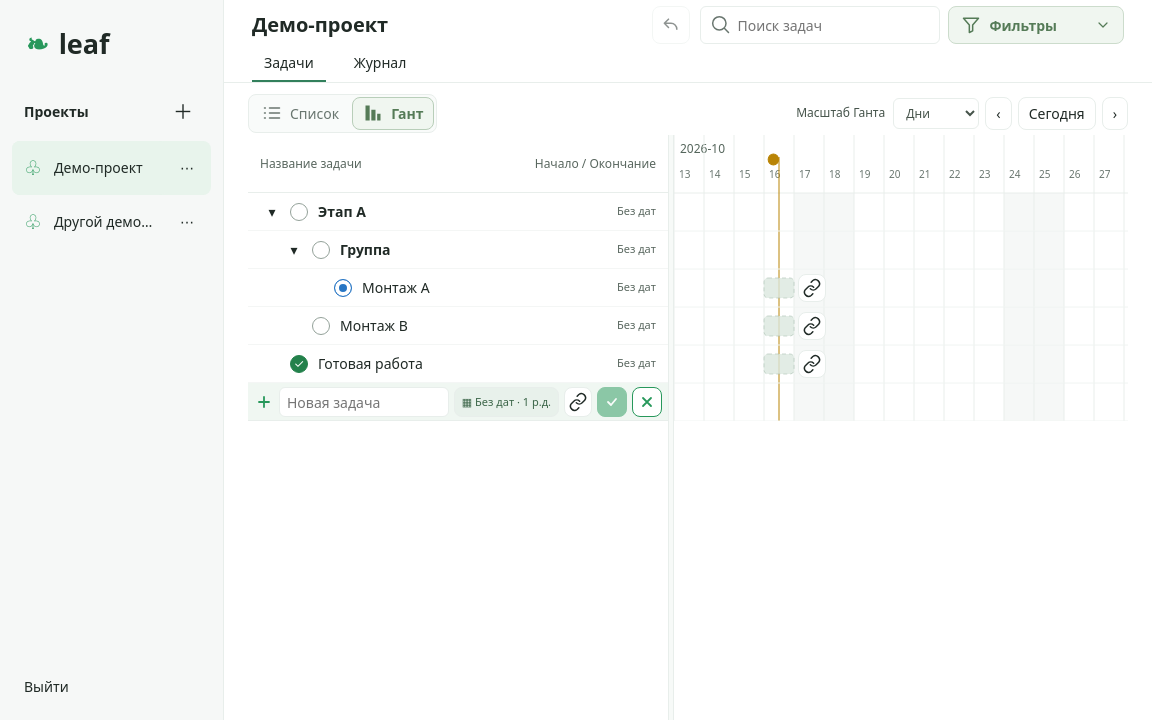
Scenario: reveals matches in collapsed branches and shares literal rows with Gantt without requests
The image size is (1164, 720).
Expected: the list item with aria-label "Монтаж A," is shown, 248,269 -> 668,307
Click the button named "Свернуть Этап A" at x=272, y=212, box 264,202 -> 280,222
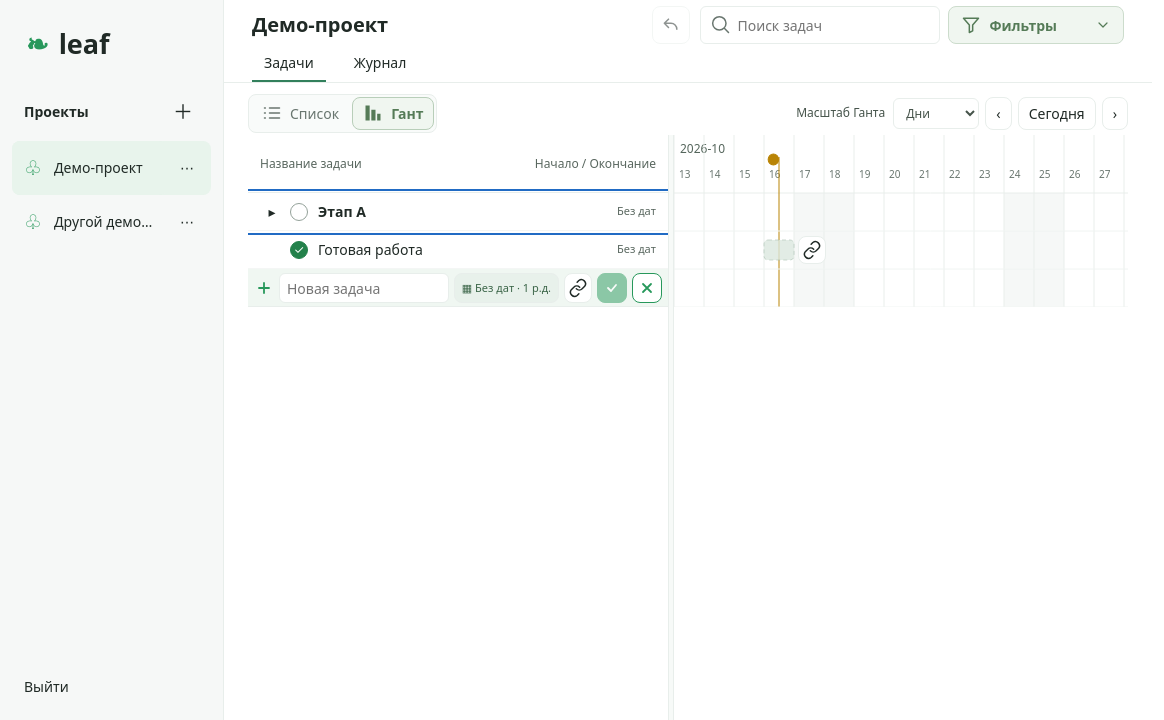
Type " МОНТАЖ " into the search field labelled "Поиск задач" at x=820, y=25, box 700,6 -> 940,44
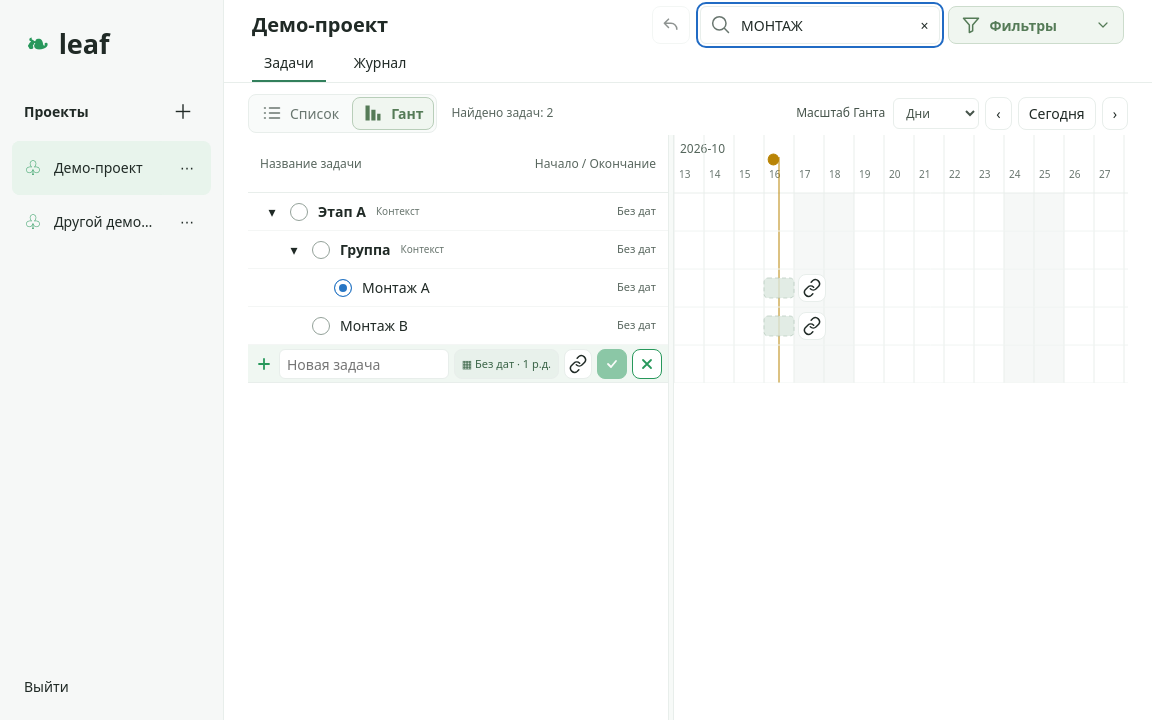
Click the button "Фильтры" at x=1036, y=25, box 948,6 -> 1124,44
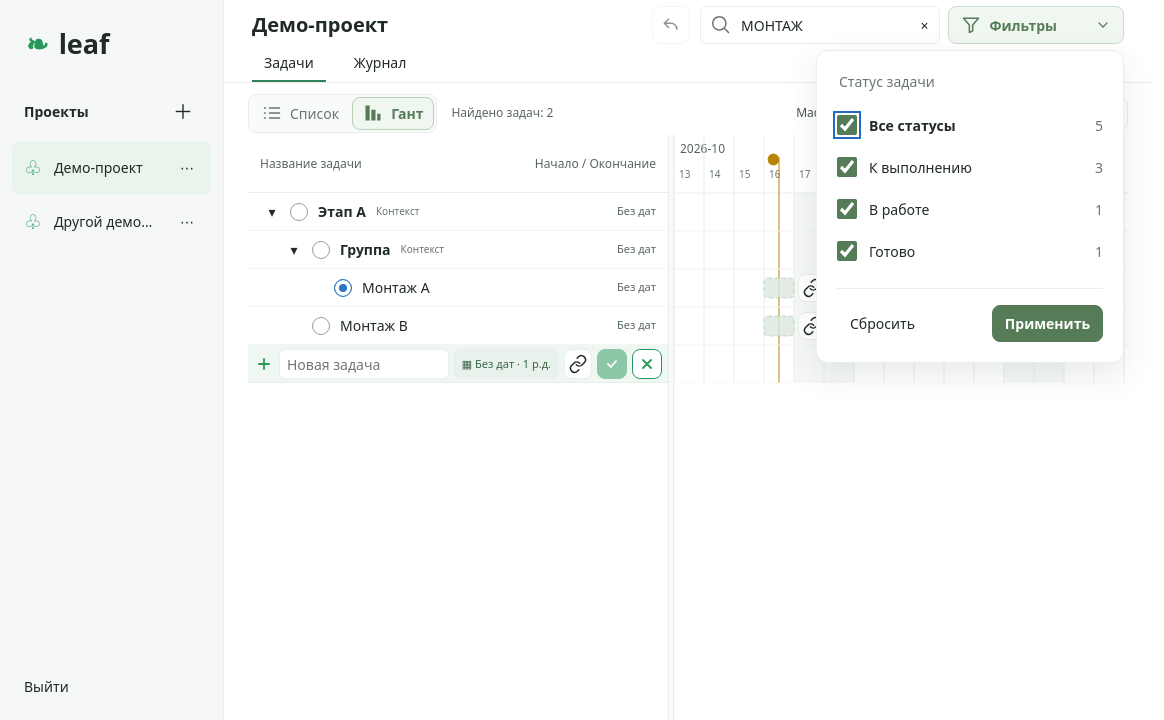
Click the checkbox labelled "Все статусы" at x=847, y=125, box 837,115 -> 857,135
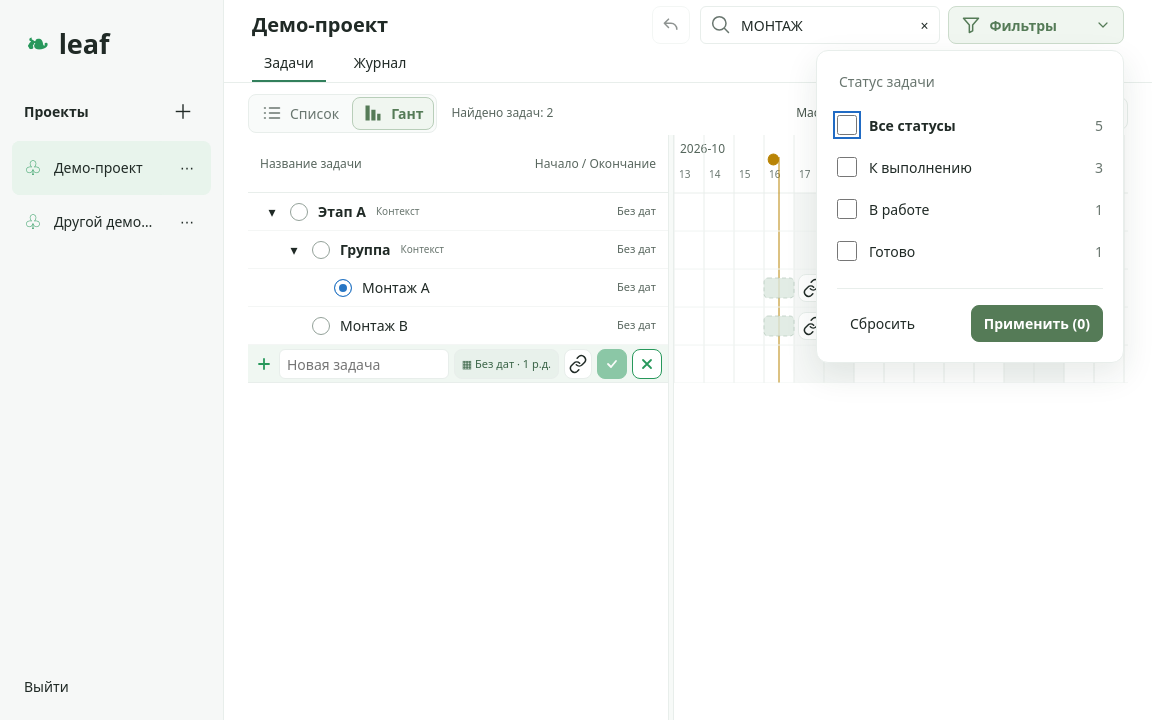
Click the checkbox labelled "В работе" at x=847, y=209, box 837,199 -> 857,219
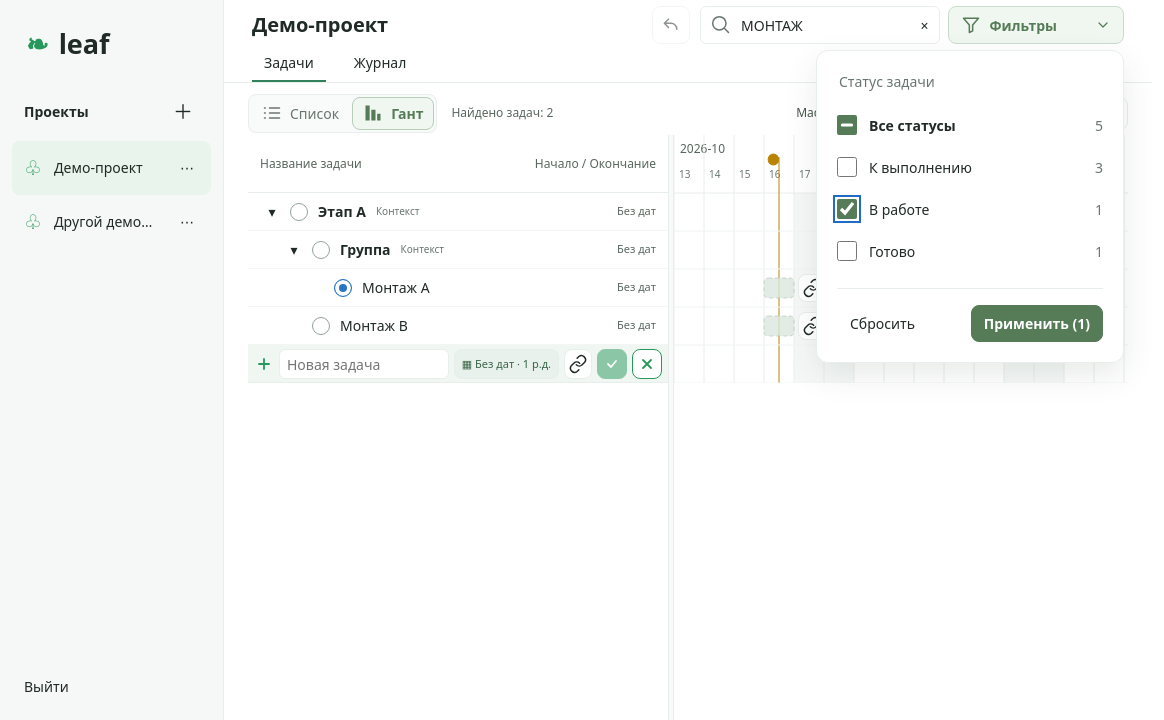
Click the button "Применить (1)" at x=1037, y=324, box 971,305 -> 1103,342
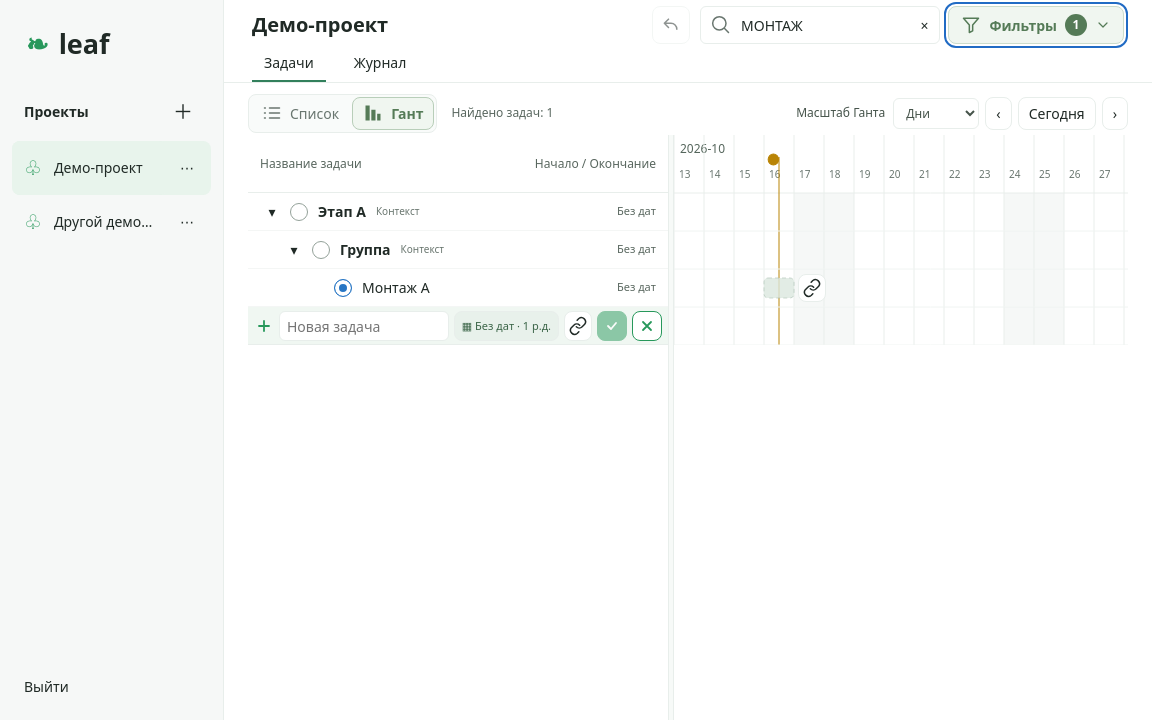
Expected: the text "Найдено задач: 1" is shown, 451,104 -> 553,122
